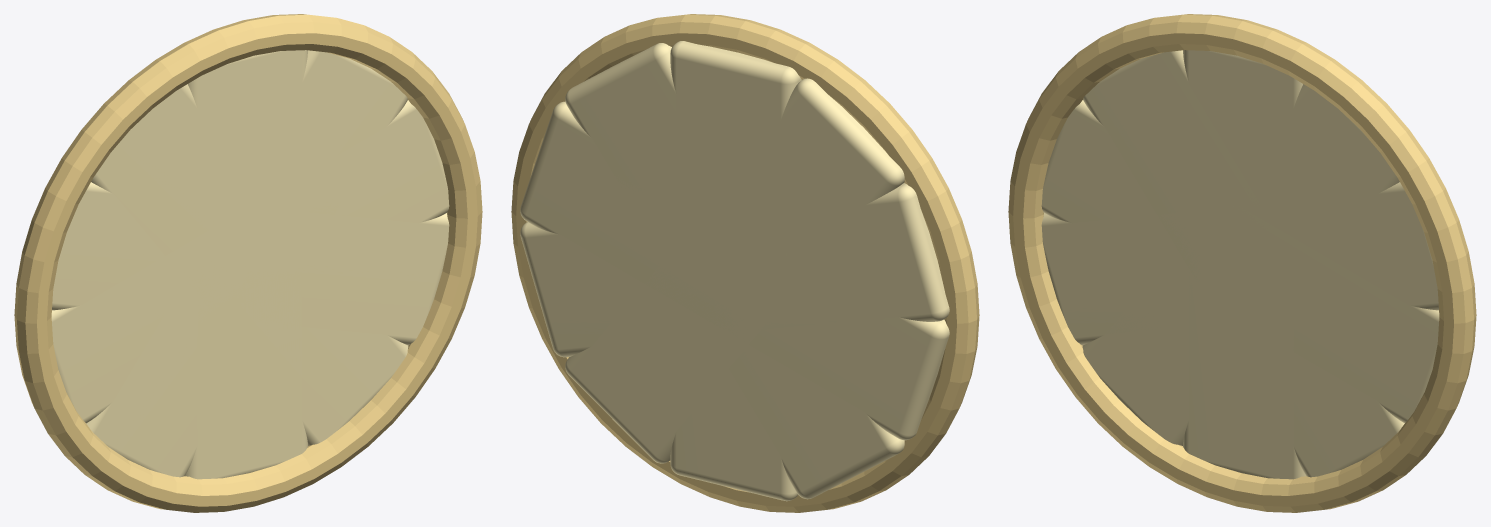
The model's file is 壁挂星星灯.fbx.
3 renders of one model, left to right at view 1: azimuth 30°, elevation 25°; view 2: azimuth 150°, elevation 25°; view 3: azimuth 330°, elevation 25°, orthographic.
Parts seen in each view (by area): view 1: 壁挂星星灯_金色外圈, 壁挂星星灯_星芒, 壁挂星星灯_星芒.003, 壁挂星星灯_星芒.004, 壁挂星星灯_星芒.001, 壁挂星星灯_星芒.002; view 2: 壁挂星星灯_星芒.001, 壁挂星星灯_金色外圈, 壁挂星星灯_星芒, 壁挂星星灯_星芒.002, 壁挂星星灯_星芒.004, 壁挂星星灯_星芒.003; view 3: 壁挂星星灯_金色外圈, 壁挂星星灯_星芒, 壁挂星星灯_星芒.001, 壁挂星星灯_星芒.004, 壁挂星星灯_星芒.002, 壁挂星星灯_星芒.003.
Part boxes in pixels (bbox=[...]): 壁挂星星灯_金色外圈: bbox=[14, 14, 482, 512]; 壁挂星星灯_星芒: bbox=[185, 50, 307, 479]; 壁挂星星灯_星芒.003: bbox=[86, 50, 407, 477]; 壁挂星星灯_星芒.004: bbox=[52, 182, 449, 345]; 壁挂星星灯_星芒.001: bbox=[51, 100, 449, 423]; 壁挂星星灯_星芒.002: bbox=[91, 84, 408, 445]; 壁挂星星灯_星芒.001: bbox=[520, 101, 949, 440]; 壁挂星星灯_金色外圈: bbox=[511, 14, 979, 512]; 壁挂星星灯_星芒: bbox=[670, 41, 801, 501]; 壁挂星星灯_星芒.002: bbox=[565, 78, 904, 463]; 壁挂星星灯_星芒.004: bbox=[520, 183, 949, 357]; 壁挂星星灯_星芒.003: bbox=[565, 43, 904, 499]; 壁挂星星灯_金色外圈: bbox=[1008, 14, 1476, 512]; 壁挂星星灯_星芒: bbox=[1183, 50, 1305, 479]; 壁挂星星灯_星芒.001: bbox=[1041, 182, 1438, 345]; 壁挂星星灯_星芒.004: bbox=[1041, 100, 1439, 423]; 壁挂星星灯_星芒.002: bbox=[1083, 50, 1404, 477]; 壁挂星星灯_星芒.003: bbox=[1082, 84, 1399, 445].
Bounding box in the file's own units: 51.6 × 51.6 × 4.96.
